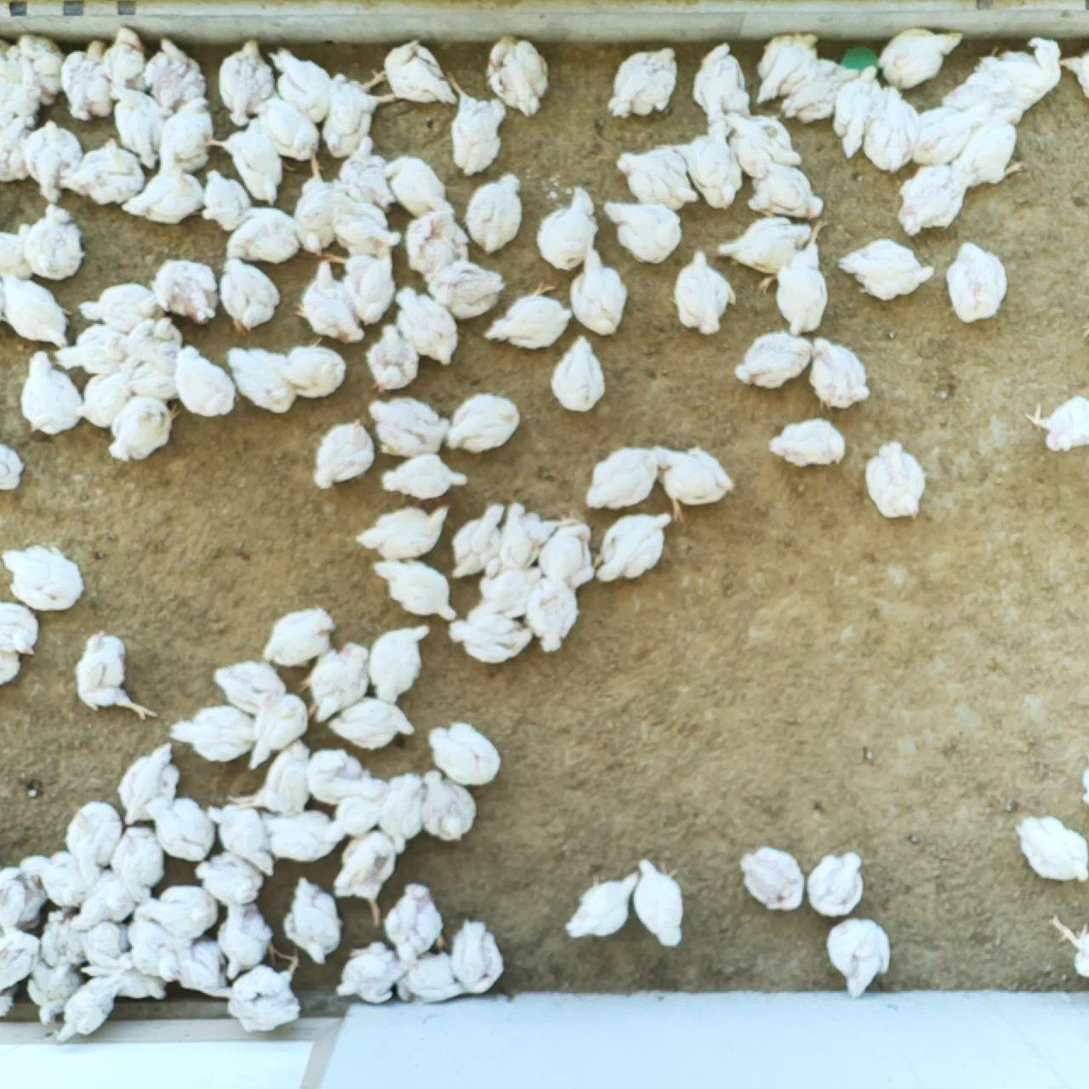chicken: (69, 627, 158, 724), (317, 68, 405, 159), (771, 220, 837, 335), (281, 148, 349, 259), (223, 737, 320, 814), (441, 68, 508, 177), (204, 124, 290, 207), (330, 826, 401, 926), (947, 104, 1032, 187), (223, 956, 310, 1037), (901, 98, 998, 170), (649, 442, 736, 522), (894, 160, 982, 239), (727, 217, 815, 296), (561, 242, 632, 339), (482, 279, 573, 352), (595, 506, 674, 590), (723, 103, 808, 181), (583, 441, 675, 513), (295, 638, 372, 724), (115, 150, 203, 225), (168, 701, 270, 764), (0, 272, 80, 351), (325, 180, 405, 259), (829, 60, 890, 163), (777, 56, 864, 128), (40, 906, 132, 974), (294, 262, 368, 346), (0, 540, 85, 613), (838, 239, 936, 302), (482, 32, 553, 118), (48, 969, 125, 1047), (254, 804, 350, 866), (560, 869, 645, 939), (107, 83, 176, 169), (858, 80, 919, 177), (601, 194, 683, 266), (353, 504, 453, 563), (535, 182, 601, 271), (367, 621, 435, 707), (604, 44, 683, 118), (673, 248, 740, 335), (823, 916, 894, 998), (862, 435, 928, 523), (19, 350, 85, 438), (875, 26, 967, 89), (391, 282, 460, 366), (107, 393, 186, 466), (366, 392, 448, 462), (368, 557, 456, 622), (1012, 810, 1089, 884), (446, 600, 533, 665), (326, 249, 399, 326), (684, 117, 745, 209), (64, 870, 149, 936), (443, 390, 529, 455), (445, 498, 512, 581), (62, 138, 145, 205), (221, 343, 298, 415), (630, 853, 688, 948), (216, 35, 275, 128), (148, 255, 223, 328), (382, 883, 452, 961), (754, 28, 823, 107), (732, 329, 817, 393), (117, 743, 181, 828), (945, 241, 1008, 327), (309, 418, 378, 496), (245, 691, 311, 772), (459, 171, 524, 253), (385, 38, 459, 110), (381, 151, 457, 221), (256, 606, 339, 670), (141, 789, 212, 863), (320, 778, 396, 847), (427, 718, 504, 786), (247, 92, 324, 160), (806, 334, 873, 412), (22, 202, 86, 283), (495, 503, 564, 578), (267, 46, 336, 121), (205, 799, 273, 875), (282, 876, 340, 965), (21, 944, 83, 1027), (404, 207, 476, 278), (546, 334, 609, 415), (612, 147, 697, 207), (216, 256, 282, 333), (106, 823, 170, 902), (742, 156, 822, 219), (443, 916, 506, 995), (58, 38, 116, 123), (24, 122, 84, 204), (417, 765, 482, 840), (222, 204, 303, 264), (154, 938, 239, 995), (329, 134, 398, 204), (123, 909, 189, 982), (132, 884, 218, 940), (78, 281, 167, 335), (174, 345, 237, 421), (328, 696, 415, 751), (736, 841, 805, 910), (425, 262, 507, 320), (140, 37, 206, 109), (375, 451, 468, 502), (309, 744, 386, 805), (333, 944, 410, 1005), (692, 41, 751, 120), (78, 952, 169, 1003), (157, 95, 214, 176), (219, 899, 275, 981), (66, 798, 117, 887), (18, 848, 96, 906), (390, 950, 464, 1011), (803, 848, 869, 916), (76, 365, 145, 429), (475, 559, 546, 621), (527, 572, 582, 652), (376, 770, 429, 853), (1025, 390, 1089, 458), (190, 850, 265, 908), (766, 417, 848, 470), (364, 319, 421, 395), (536, 520, 596, 592), (51, 324, 129, 379), (272, 344, 348, 400), (72, 371, 141, 432), (10, 34, 65, 109), (98, 26, 151, 103), (211, 659, 288, 711), (999, 37, 1063, 97), (978, 54, 1043, 112), (120, 314, 185, 371), (0, 924, 39, 1018), (0, 598, 40, 687), (943, 68, 1018, 114), (1045, 906, 1089, 981), (123, 358, 191, 406), (0, 863, 45, 932), (201, 168, 249, 230), (0, 114, 35, 184), (0, 224, 40, 284), (0, 71, 42, 123), (1058, 50, 1089, 99), (0, 443, 27, 494), (0, 30, 20, 89), (1074, 761, 1089, 812)
